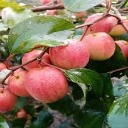apple: (1, 87, 17, 112)
